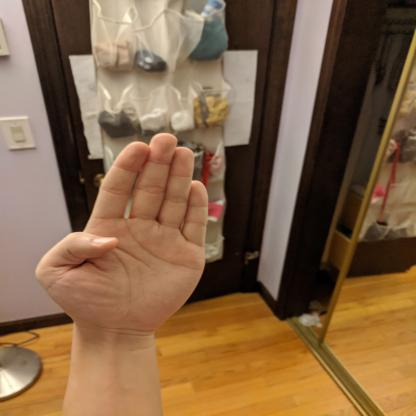B: (30, 128, 216, 334)
